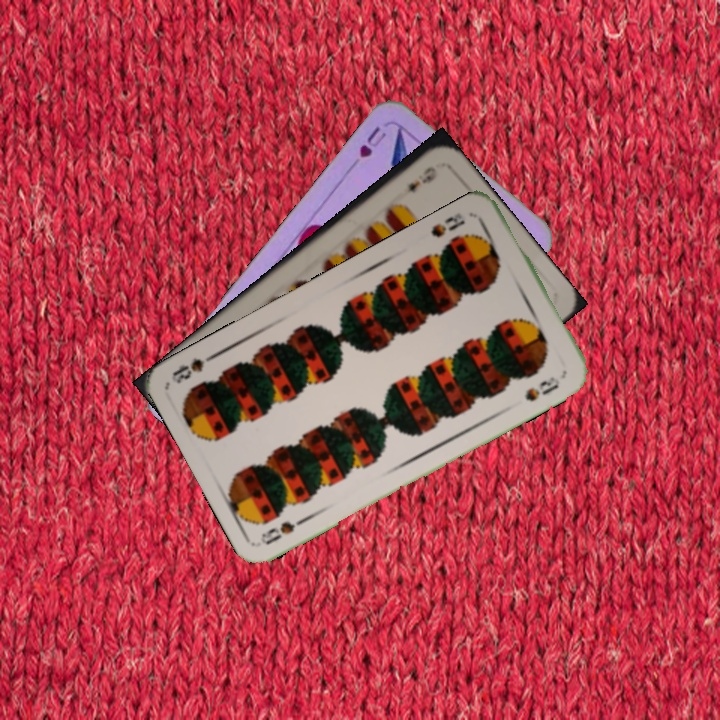E9: (403, 162, 439, 196)
HU: (355, 122, 390, 161)
S8: (256, 512, 313, 548), (426, 208, 468, 241)
